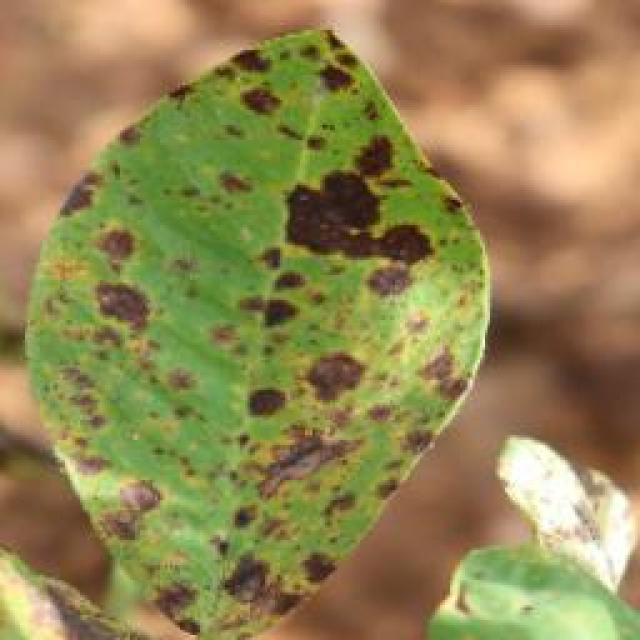Yellowish: (15, 27, 497, 640)
